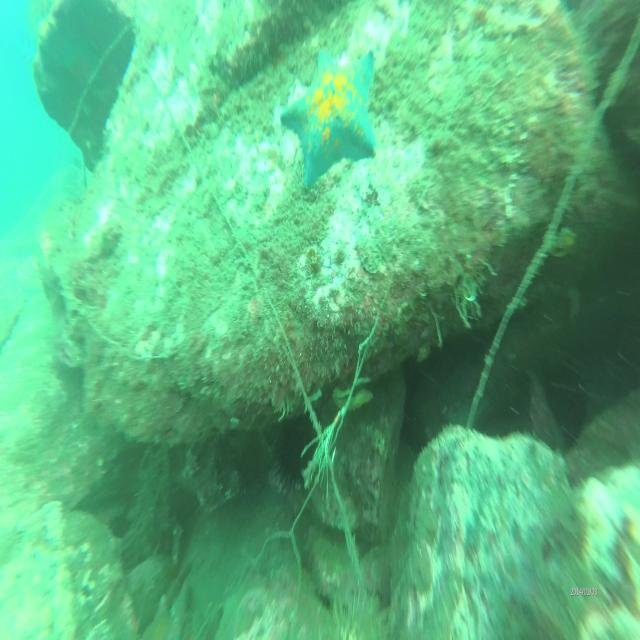starfish: (280, 48, 376, 190)
